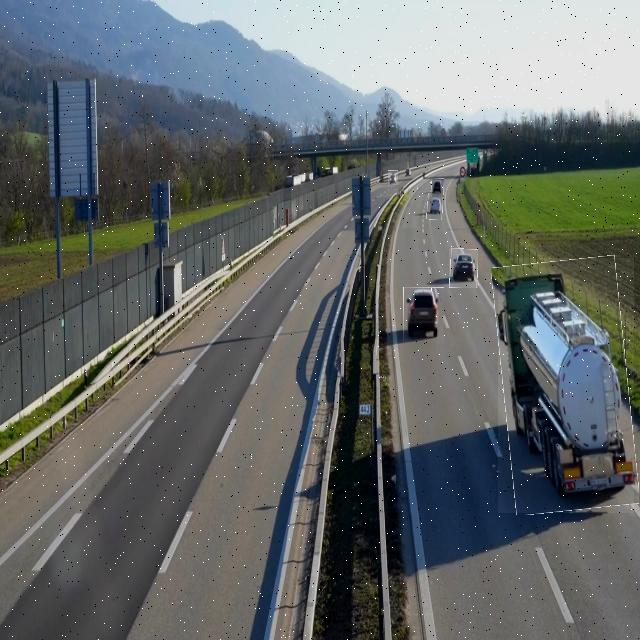Car: (403, 287, 444, 342), (449, 249, 478, 288), (427, 194, 442, 220), (432, 178, 444, 197), (388, 170, 398, 185)
Truck: (498, 258, 634, 513)
